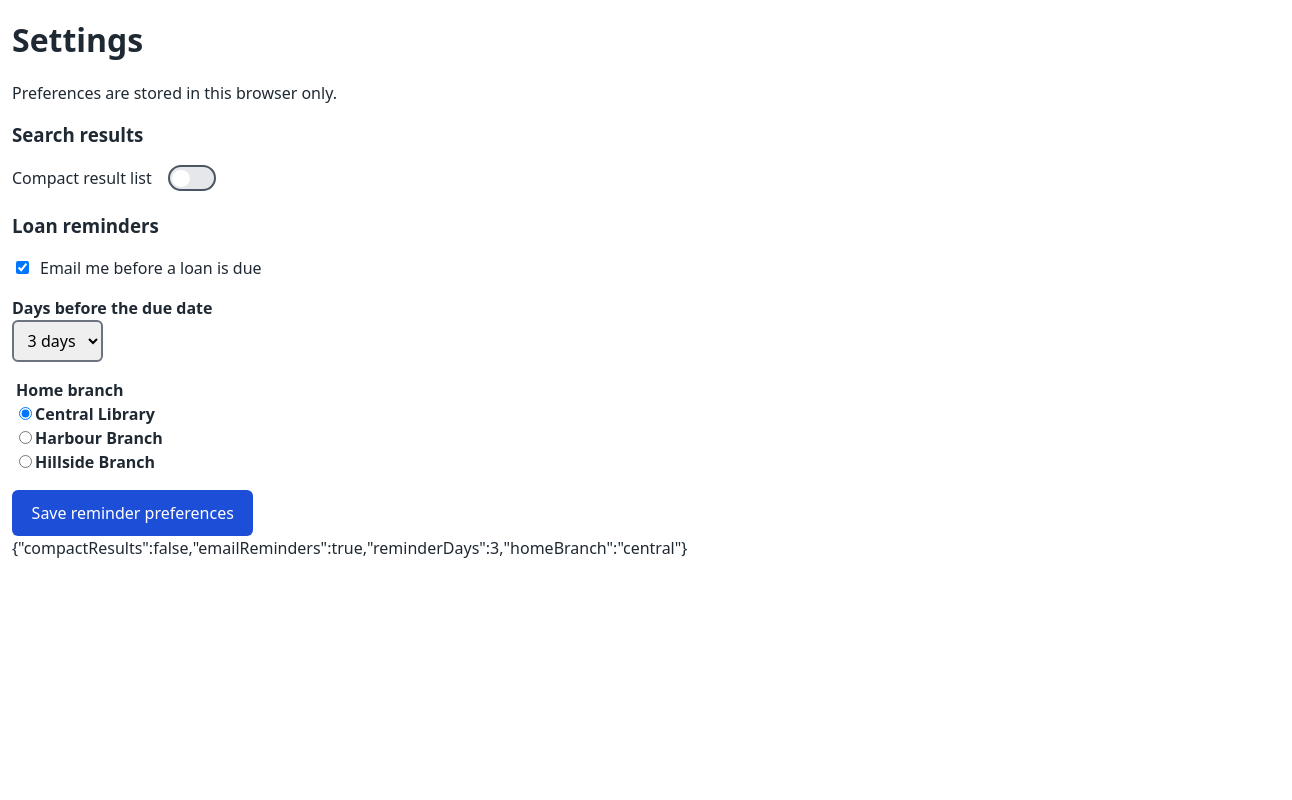
Test: SettingsPage › saves reminder preferences and confirms
The width and height of the screenshot is (1292, 800).
Select "7 days" in the dropdown labelled "Days before the due date": [58, 341] box [12,320,103,362]
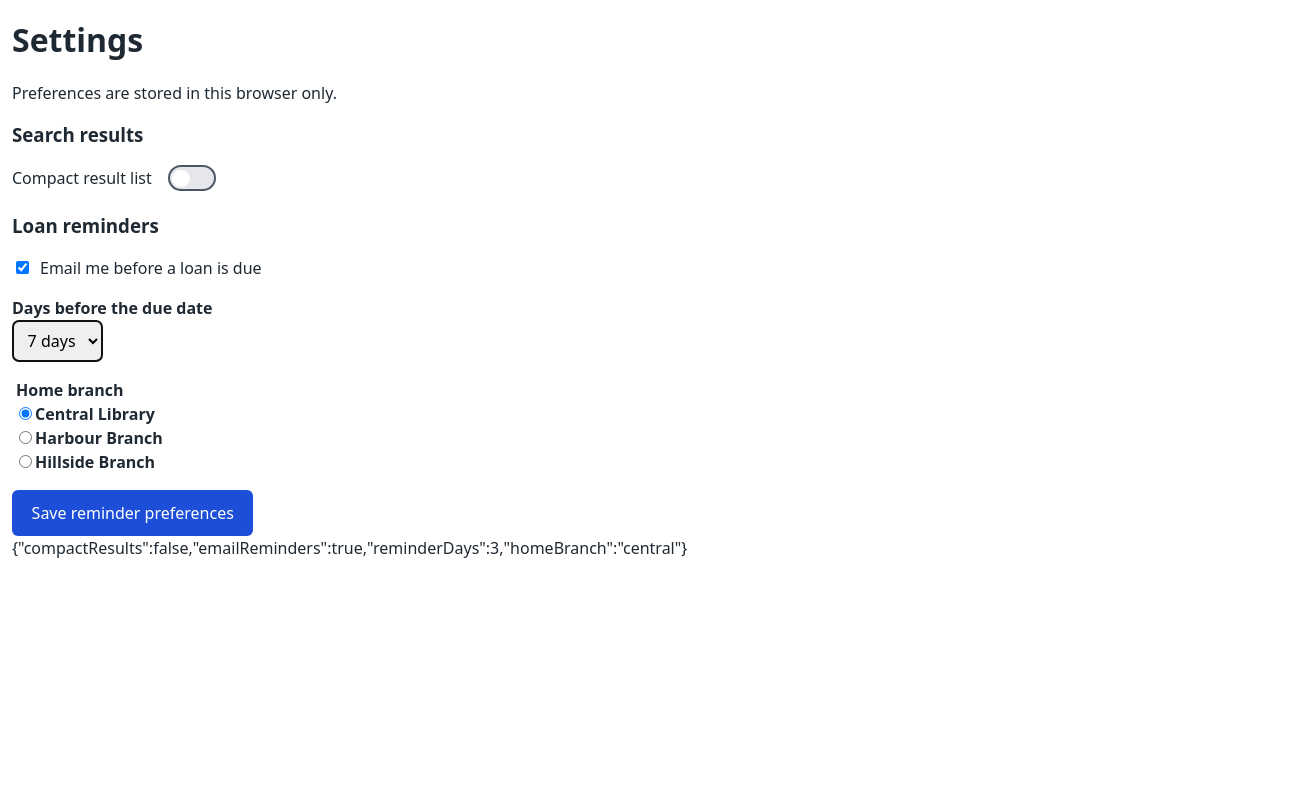
Click the radio button labelled "Harbour Branch": [26, 438] box [19,431,32,444]
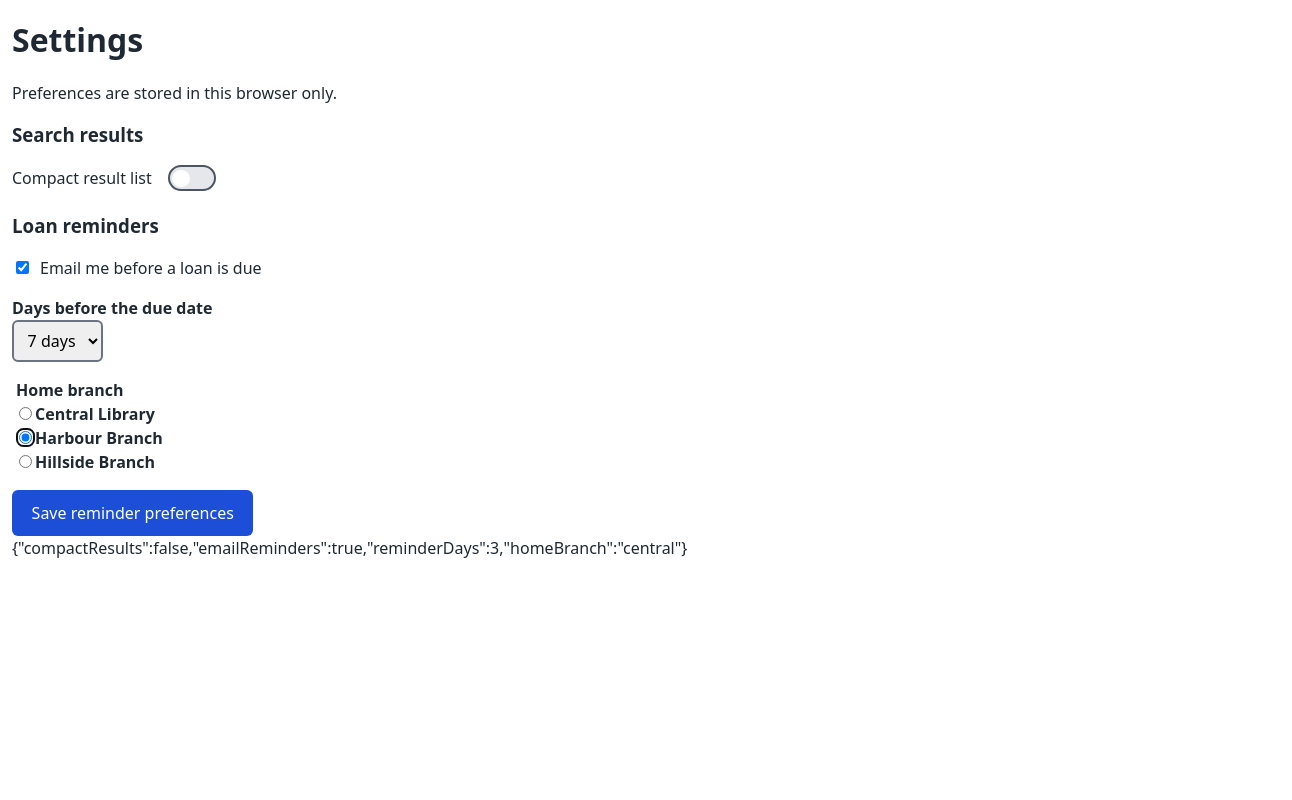
Click the button "Save reminder preferences": [133, 513] box [12,490,253,536]
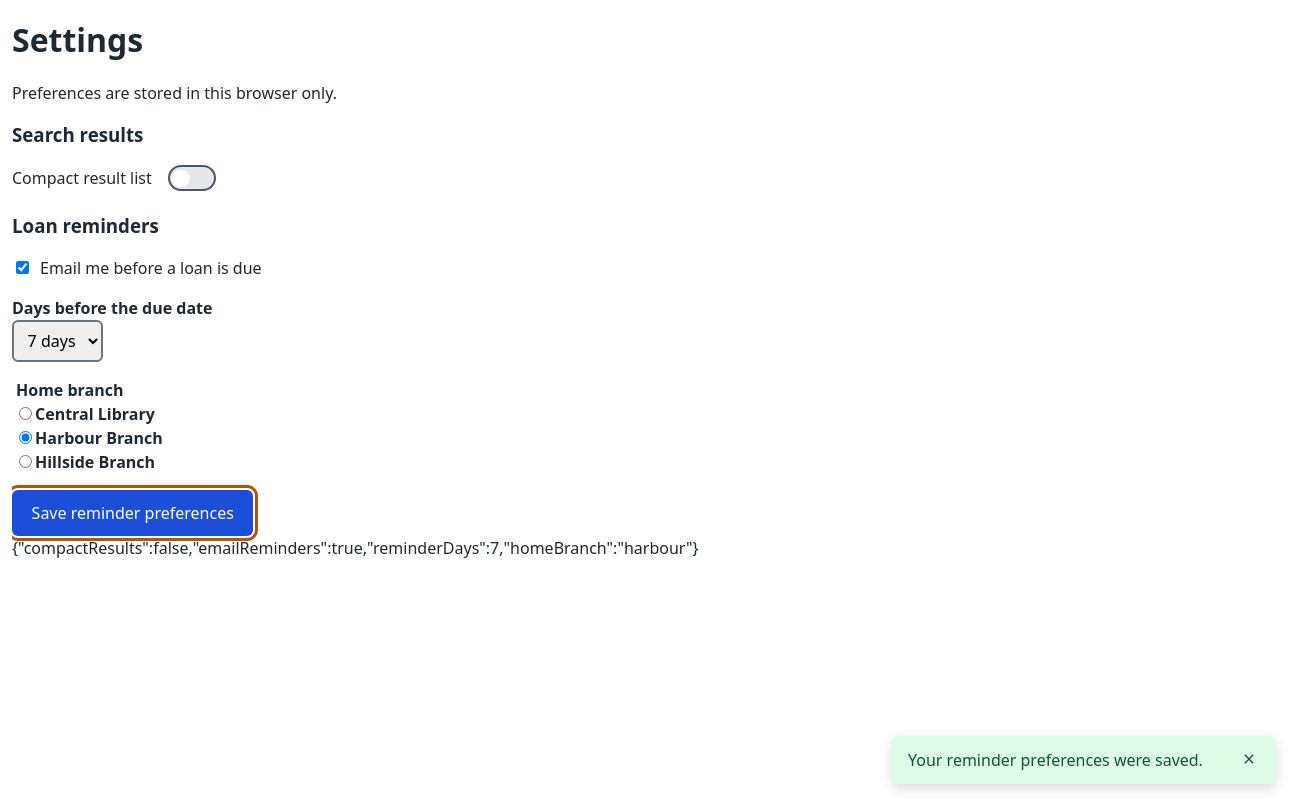
Expected: the text "\"reminderDays\":7" shows "\"homeBranch\":\"harbour\"", [12,537,699,559]
Expected: the text "Your reminder preferences were saved." is shown, [908,748,1226,772]
